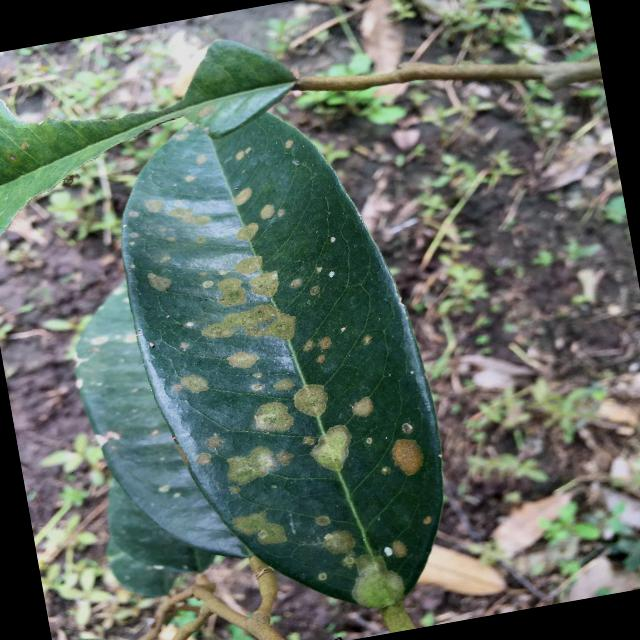Algal Leaf Spot: (88, 65, 481, 639)
